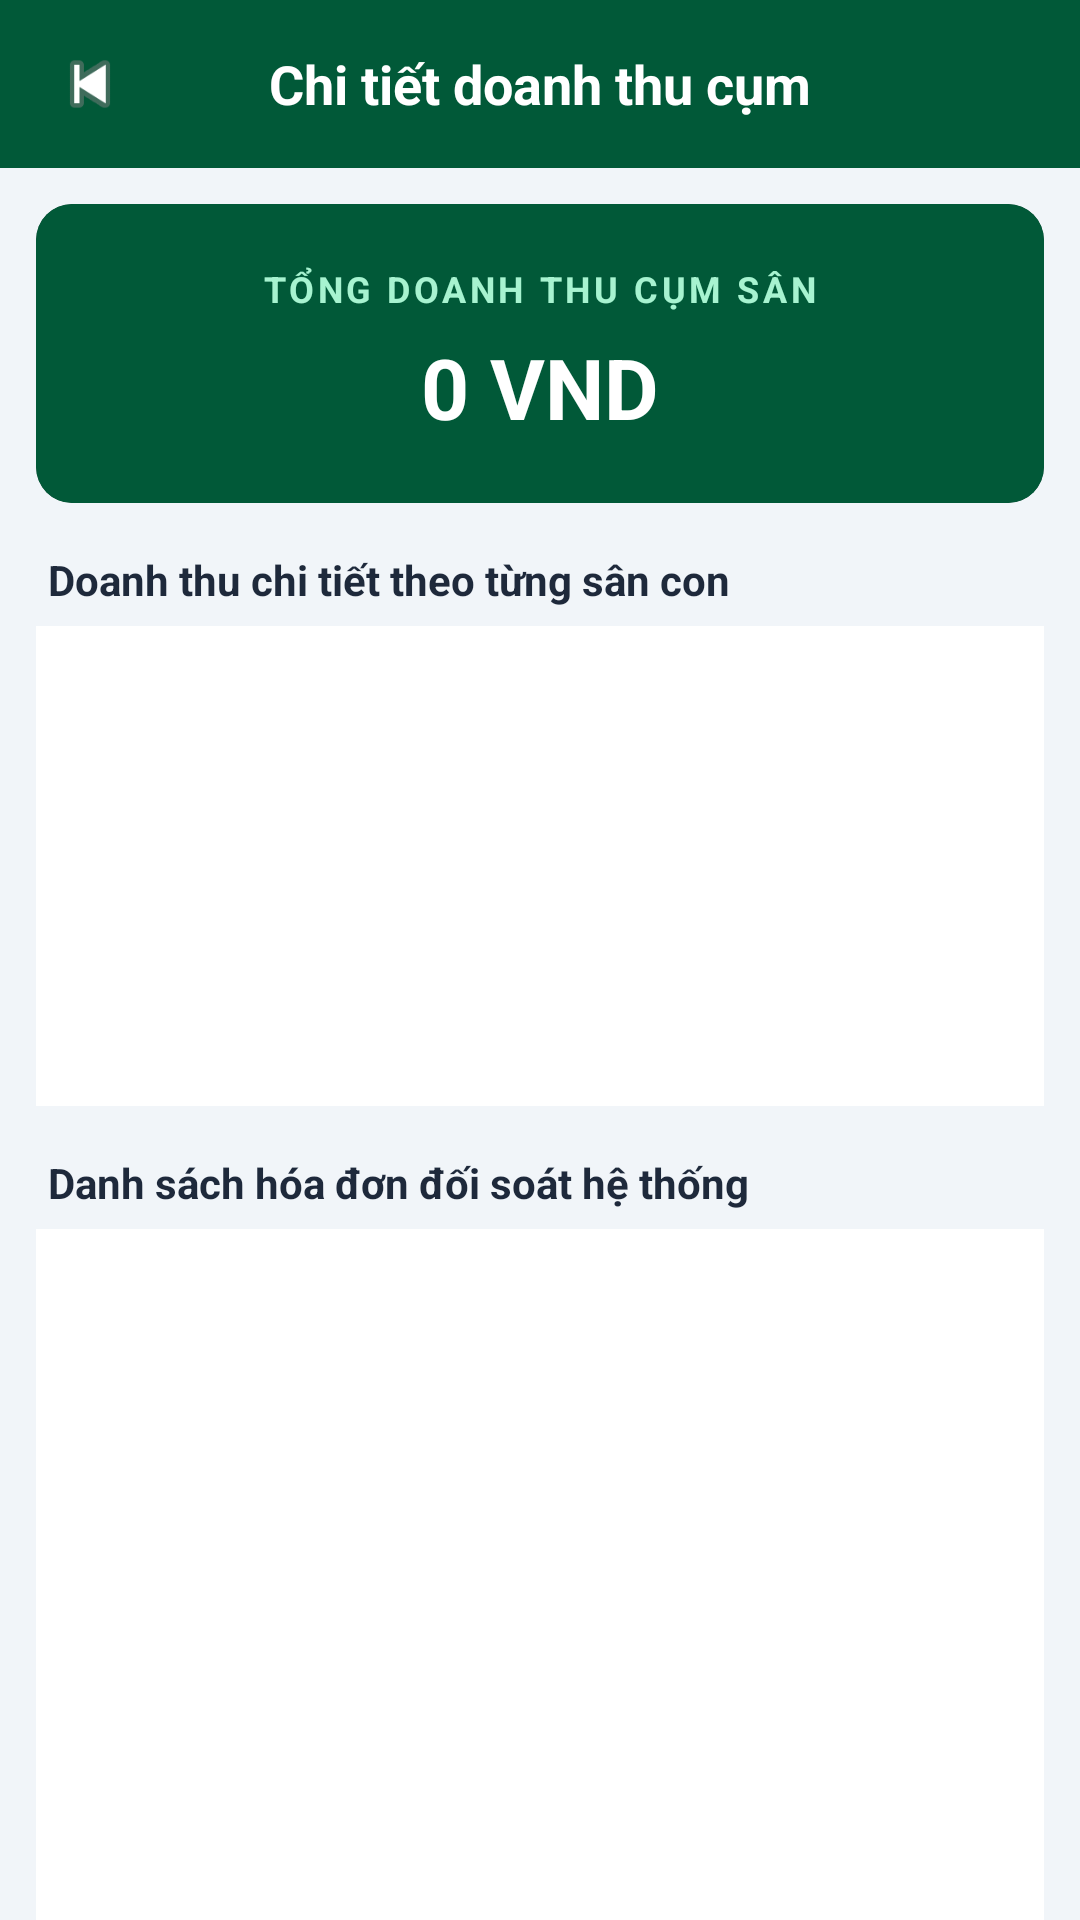

Icon bounding boxes for this 1080px×1920px phone screenshot, format (x1, y1, x2, y2):
previous: (70, 60, 110, 108)
